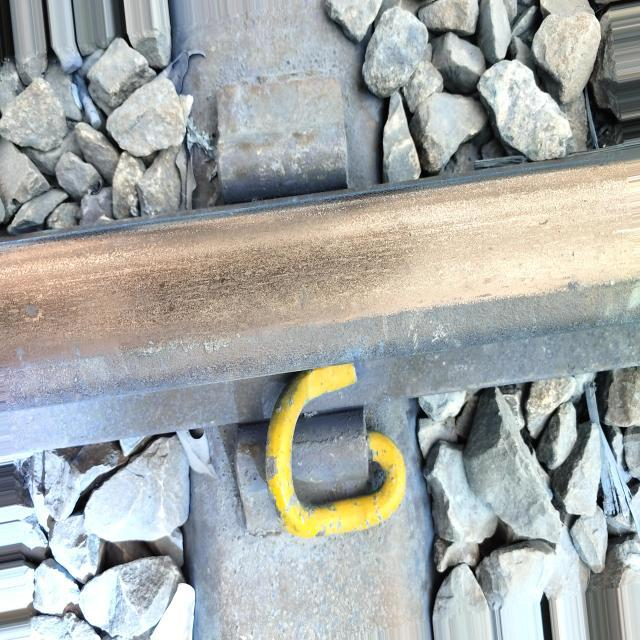Good Fasteners: (205, 369, 440, 560)
Missing Fastener: (203, 37, 367, 210)
